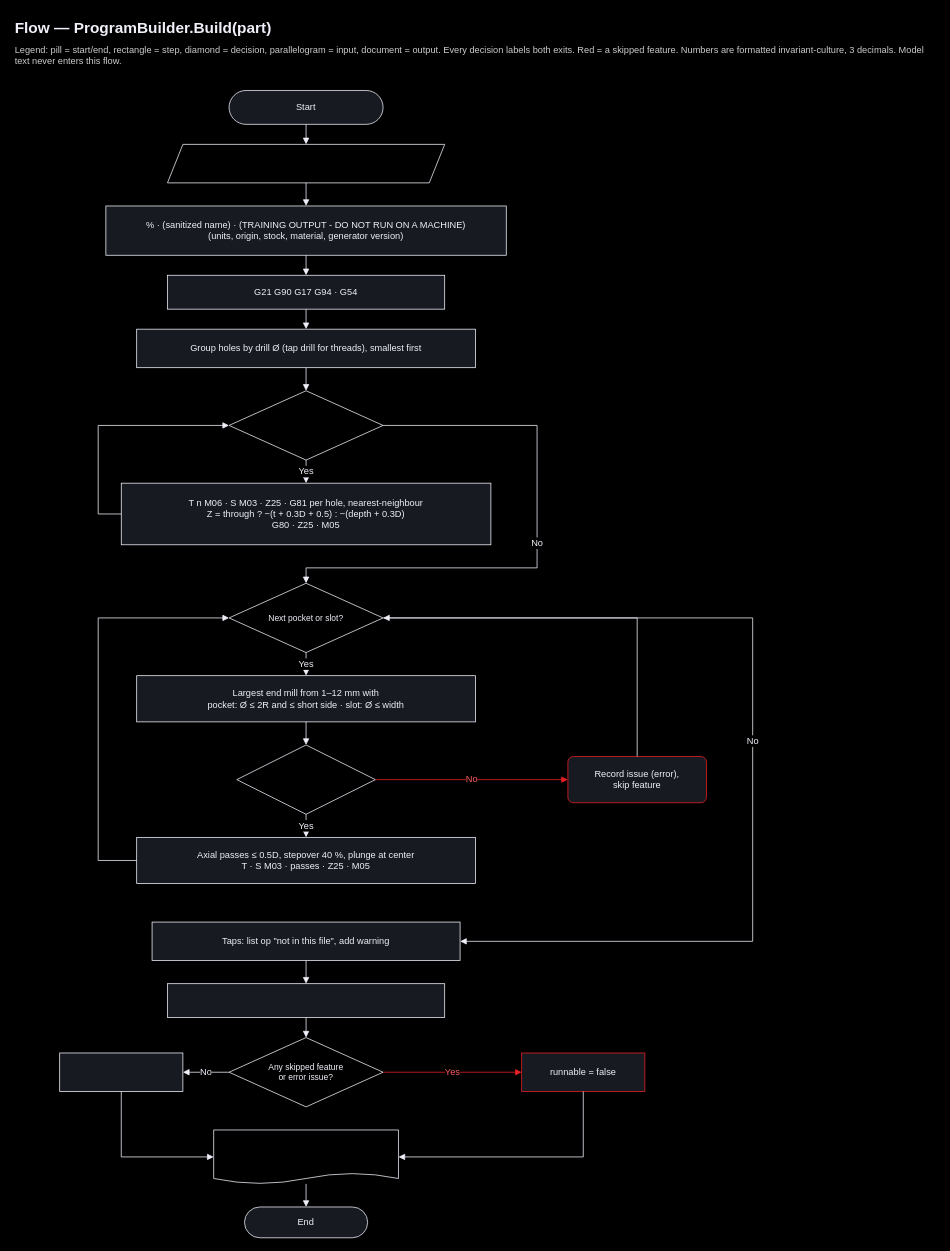
This 950x1251 diagram has some shape labels left out. The box of each missing label's shape, as (x1, y1, x2, y2) in pixels:
lines, operations, issues, runnable, moves: (213, 1129, 398, 1184)
M30 · %: (167, 983, 445, 1018)
Next hole group?: (228, 390, 383, 460)
runnable = true: (59, 1052, 183, 1091)
Stored part (from SQLite, already valid): (167, 144, 445, 183)
Tool found?: (236, 744, 375, 814)
